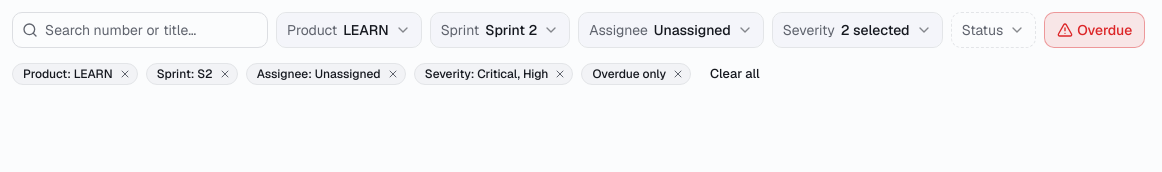
Scenario: TaskFilterToolbar › shows a chip per active filter and removing the product chip also clears its sprint
Expected: the text "Product: LEARN" is shown, [12,63,138,85]
Expected: the text "Sprint: S2" is shown, [146,63,238,85]
Click the button named "Remove filter Product: LEARN": coordinates (125, 74) [117,66,133,82]
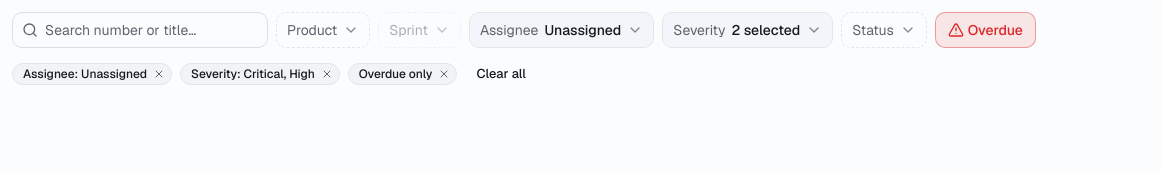
Now the text "Sprint: S2" is gone
